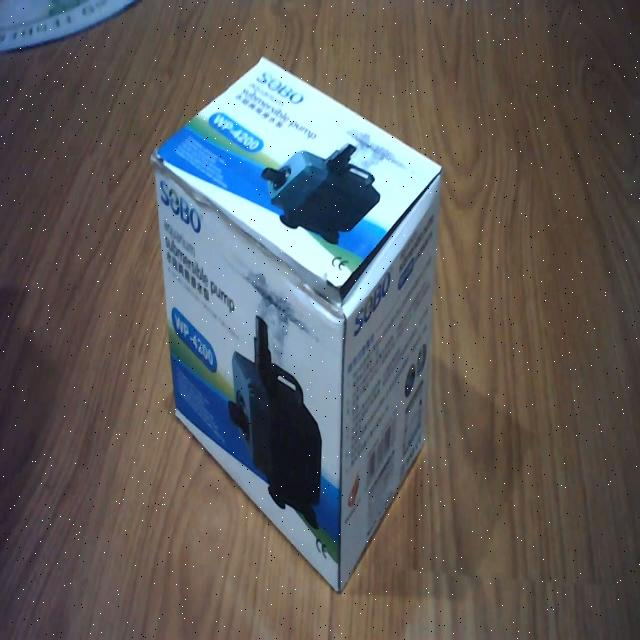SOBO_WP_4200: (146, 40, 444, 602)
